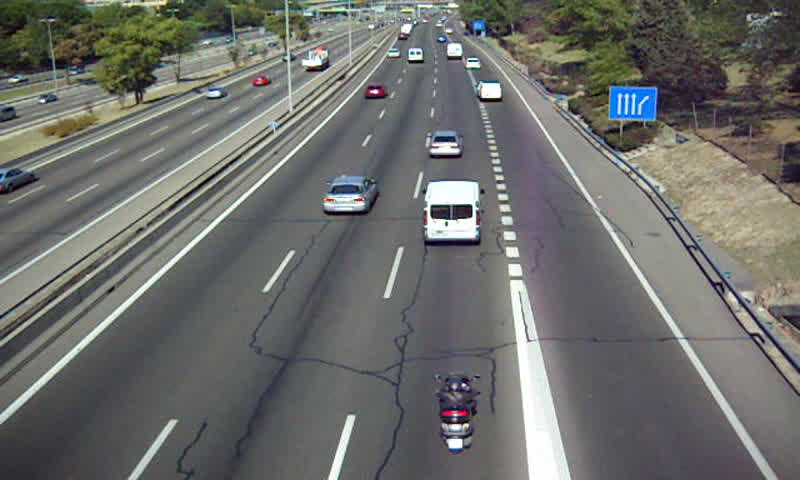car: (322, 177, 378, 214), (427, 130, 464, 158), (364, 84, 387, 98), (465, 56, 482, 70)
motorcycle: (436, 372, 478, 452)
van: (425, 180, 481, 245), (476, 80, 502, 101), (406, 46, 424, 63)
